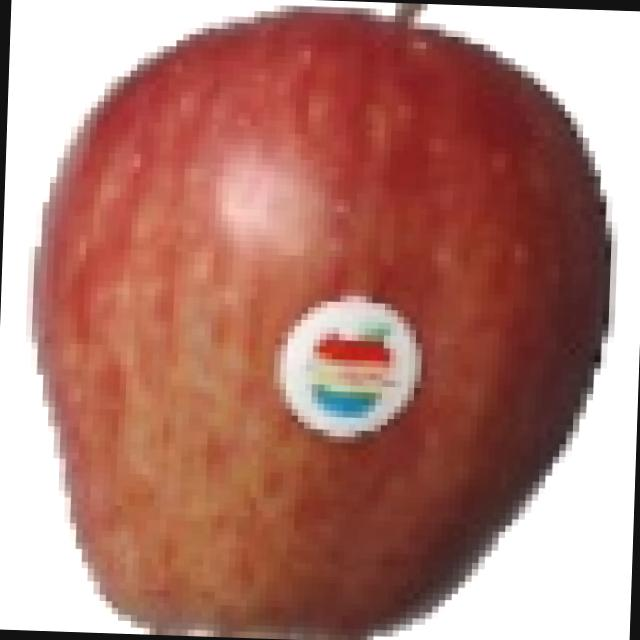apple: (15, 7, 618, 640)
